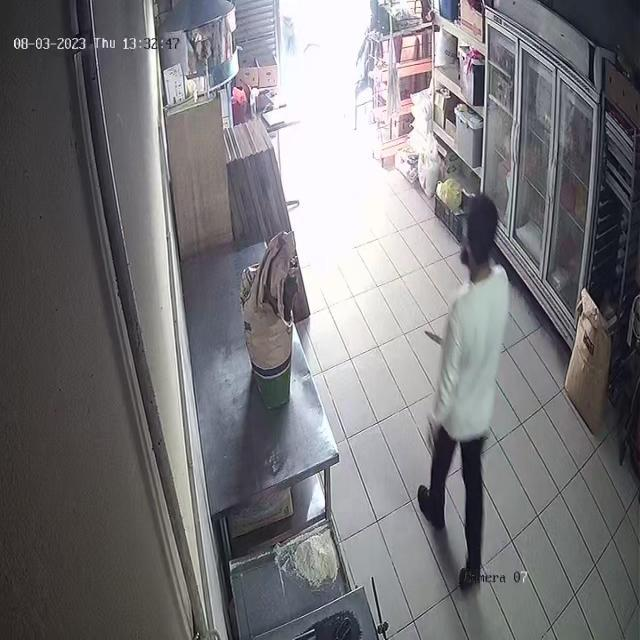Knife: (417, 322, 455, 351)
